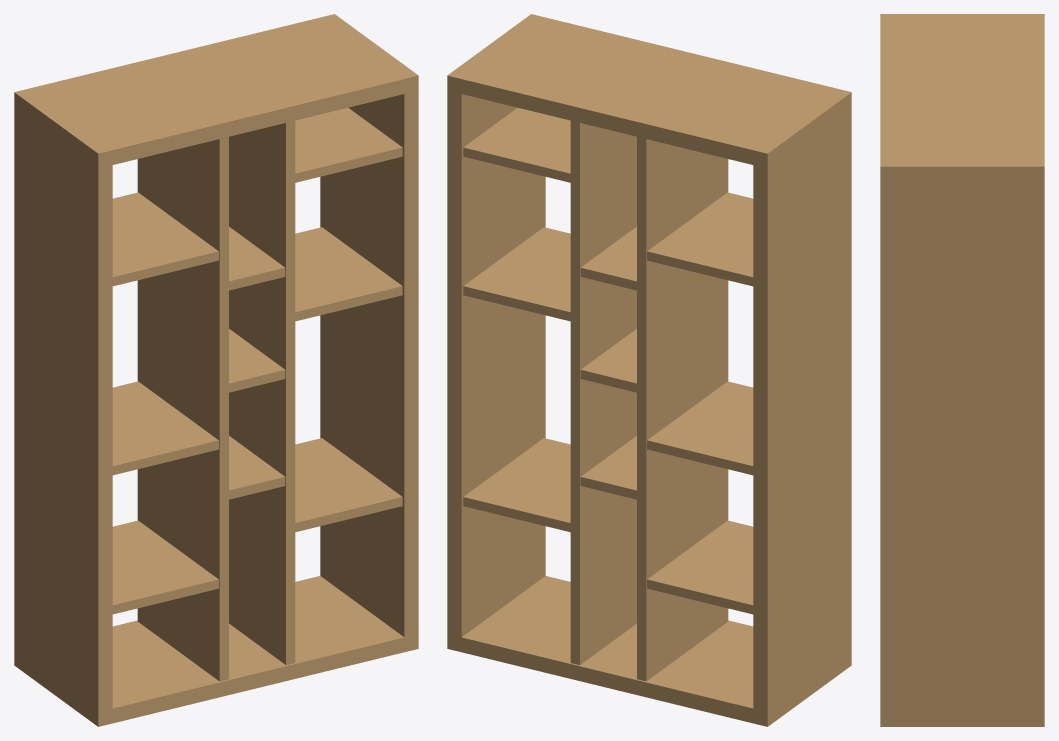
File: BookCase1.fbx
The picture shows the model from 3 angles, left to right: view 1: azimuth 30°, elevation 25°; view 2: azimuth 150°, elevation 25°; view 3: azimuth 270°, elevation 25°; orthographic projection. The views are drawn at different scales.
Visible parts, largest first — view 1: bookCase1; view 2: bookCase1; view 3: bookCase1.
Part boxes in pixels (left/top/right/bottom): bookCase1: left=14, top=14, right=418, bottom=726; bookCase1: left=447, top=14, right=851, bottom=726; bookCase1: left=880, top=14, right=1044, bottom=726.
Size of the model in its own units: 86 by 147 by 39.1.
